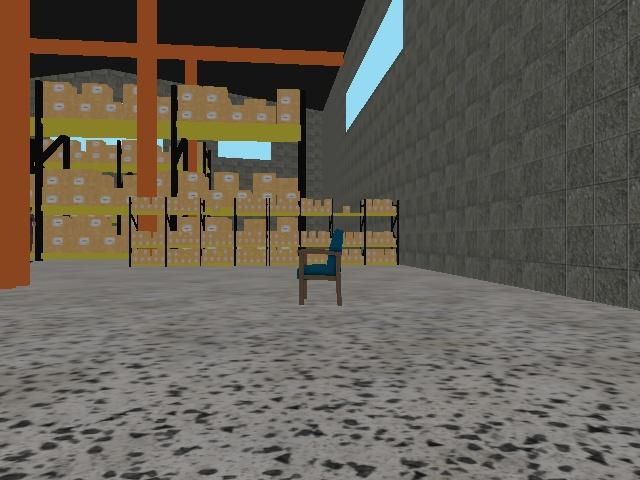chair: (295, 228, 346, 308)
